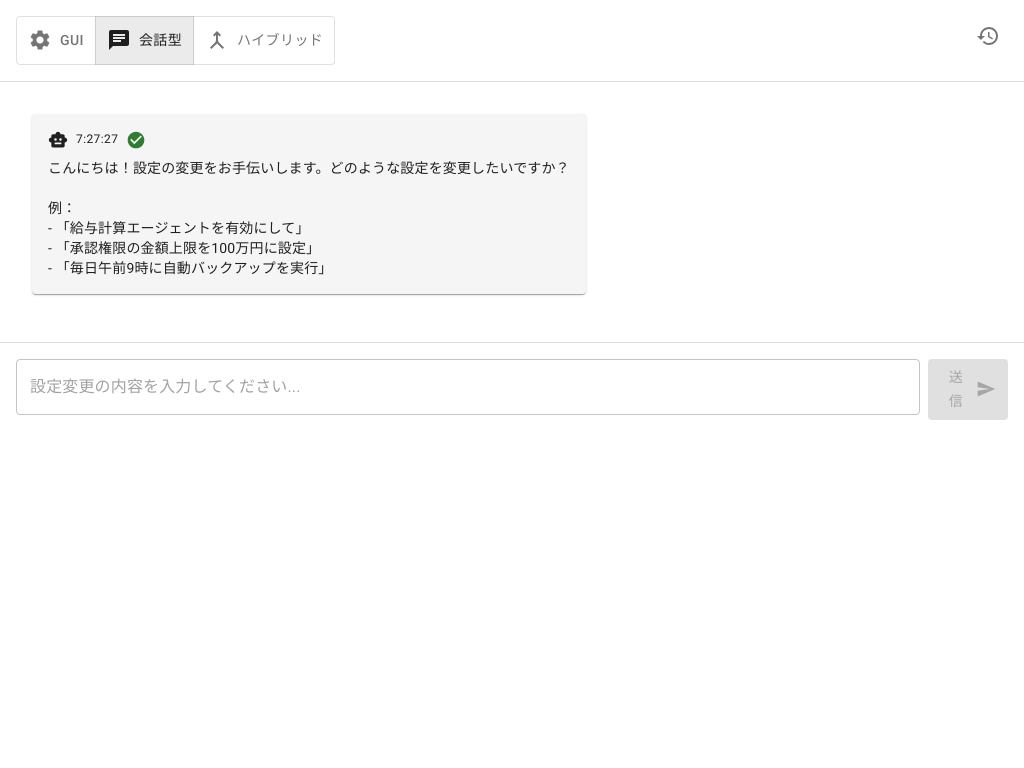
Test case: HybridConfigPanel › 会話型インターフェース › エラーメッセージが適切に表示される
Type "無効なコマンド" into the text box with placeholder "設定変更の内容を入力してください...". click: (468, 387)
box: [30,375,906,398]
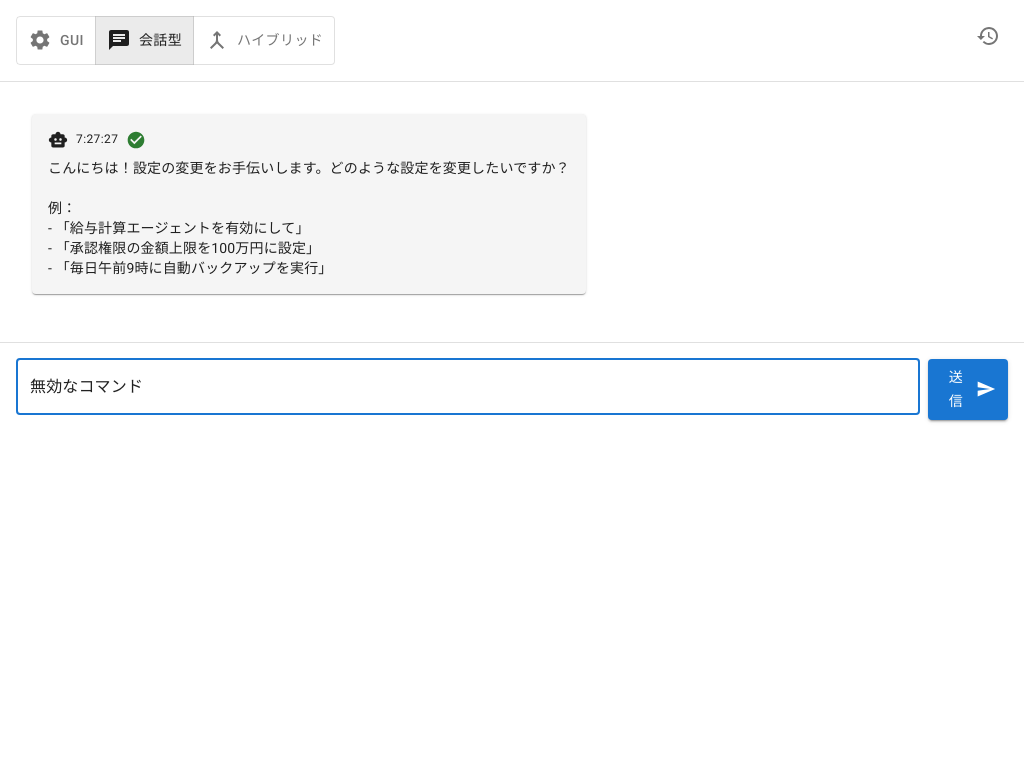
Click the button "送信". click: click(968, 389)
box: [928,359,1008,420]
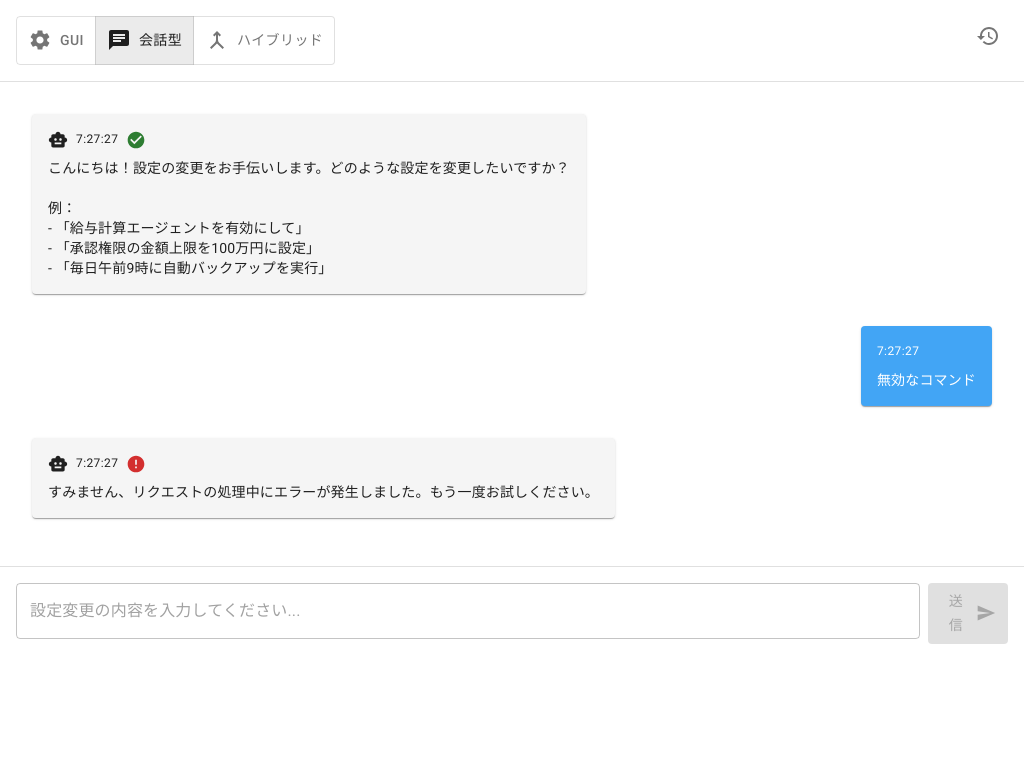
Result: the text "すみません、リクエストの処理中にエラーが発生しました。もう一度お試しください。" is shown at [48,482,599,502]
